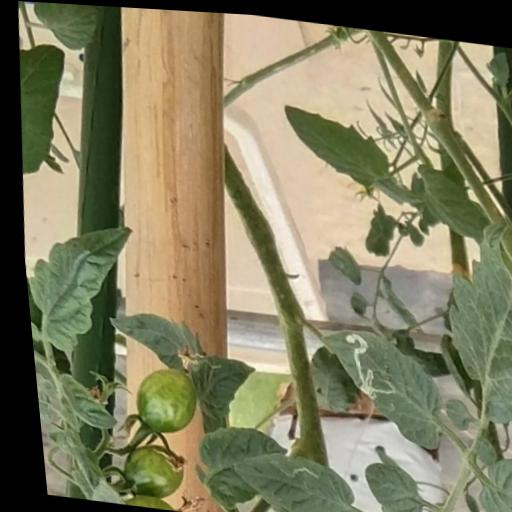Healthy: (16, 206, 140, 365), (427, 201, 512, 424), (275, 98, 392, 186), (8, 37, 77, 181), (407, 155, 489, 242), (29, 1, 107, 57), (350, 454, 418, 512)
Leaf_Miner: (306, 320, 442, 454), (211, 435, 349, 512)
